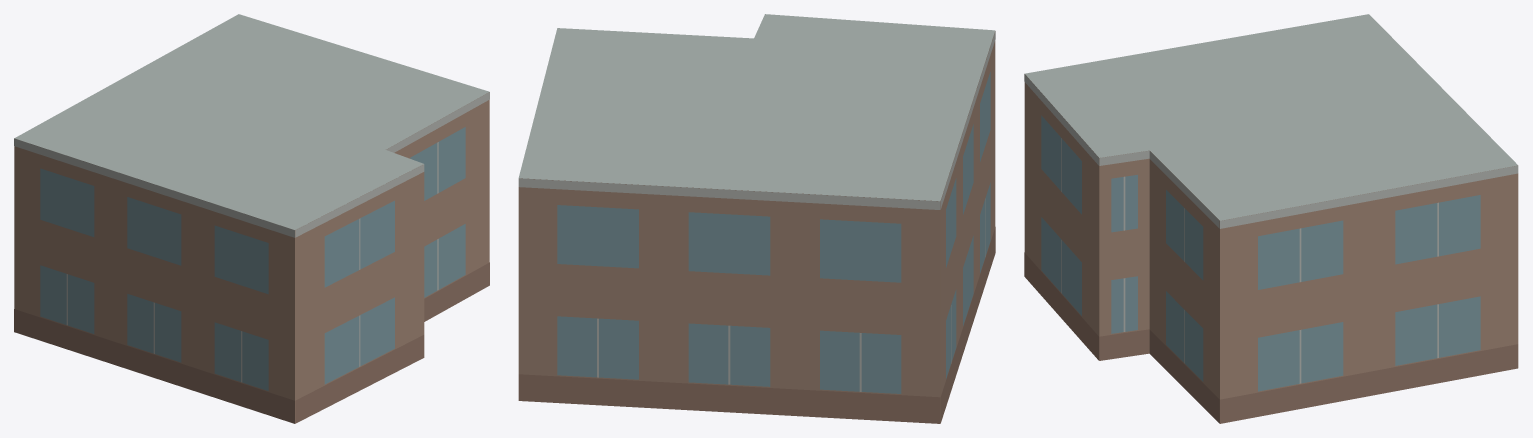
The model's file is survey-upis-32849679.glb.
3 renders of one model, left to right at view 1: azimuth 30°, elevation 25°; view 2: azimuth 150°, elevation 25°; view 3: azimuth 270°, elevation 25°, orthographic. The views are drawn at different scales.
Visible parts, largest first — view 1: survey-upis-32849679.tmp; view 2: survey-upis-32849679.tmp; view 3: survey-upis-32849679.tmp.
Boxes of the visible parts, x1,y1,x2,y2 form: survey-upis-32849679.tmp: (14,14,489,423); survey-upis-32849679.tmp: (518,14,995,423); survey-upis-32849679.tmp: (1024,14,1518,423).
Bounding box in the file's own units: 13.34 × 6.1 × 13.46.
